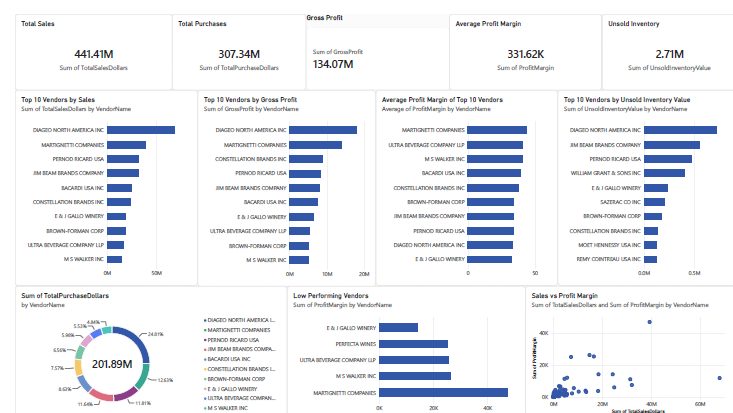

Layout of this report page (visuals, bound fields, positions):
{"tool":"powerbi","page":{"name":"Vendor Performance Dashboard","canvas":[1920,1080],"ordinal":0},"visuals":[{"type":"textbox","box":[10,0,280,280],"z":0},{"type":"card","title":"Total Sales","fields":{"Values":["Sum(vendor_performance_final.TotalSalesDollars)"]},"box":[0,0,418.7,202.7],"z":1},{"type":"card","title":"Total Purchases","fields":{"Values":["Sum(vendor_performance_final.TotalPurchaseDollars)"]},"box":[418.7,0,356.8,202.7],"z":2},{"type":"cardVisual","title":"Gross Profit","fields":{"Data":["Sum(vendor_performance_final.GrossProfit)"]},"box":[775.5,0,380.2,202.7],"z":3},{"type":"card","title":"Average Profit Margin","fields":{"Values":["Sum(vendor_performance_final.ProfitMargin)"]},"box":[1155.7,0,405.3,202.7],"z":4},{"type":"card","title":"Unsold Inventory","fields":{"Values":["Sum(vendor_performance_final.UnsoldInventoryValue)"]},"box":[1561,0,360.1,202.7],"z":5},{"type":"clusteredBarChart","title":" Top 10 Vendors by Sales","fields":{"Category":["vendor_performance_final.VendorName"],"Y":["Sum(vendor_performance_final.TotalSalesDollars)"]},"box":[0,202.7,485.7,520.9],"z":6},{"type":"clusteredBarChart","title":"Top 10 Vendors by Gross Profit","fields":{"Category":["vendor_performance_final.VendorName"],"Y":["Sum(vendor_performance_final.GrossProfit)"]},"box":[485.7,202.7,474,522.6],"z":7},{"type":"clusteredBarChart","title":"Average Profit Margin of Top 10 Vendors","fields":{"Category":["vendor_performance_final.VendorName"],"Y":["Avg(vendor_performance_final.ProfitMargin)"]},"box":[959.7,202.7,484.1,520.9],"z":8},{"type":"clusteredBarChart","title":"Top 10 Vendors by Unsold Inventory Value","fields":{"Category":["vendor_performance_final.VendorName"],"Y":["Sum(vendor_performance_final.UnsoldInventoryValue)"]},"box":[1443.8,202.7,477.4,520.9],"z":9},{"type":"donutChart","fields":{"Category":["vendor_performance_final.VendorName"],"Y":["Sum(vendor_performance_final.TotalPurchaseDollars)"]},"box":[0,723.6,723.6,356.8],"z":10},{"type":"barChart","title":"Low Performing Vendors","fields":{"Category":["vendor_performance_final.VendorName"],"Y":["Sum(vendor_performance_final.ProfitMargin)"]},"box":[723.6,723.6,634.8,356.8],"z":12},{"type":"scatterChart","title":"Sales vs Profit Margin","fields":{"Category":["vendor_performance_final.VendorName"],"X":["Sum(vendor_performance_final.TotalSalesDollars)"],"Y":["Sum(vendor_performance_final.ProfitMargin)"]},"box":[1358.4,723.6,561.1,356.8],"z":13}]}

Visuals, with their boxes in screenshot pixels (x1, y1, x2, y2), scaled from the page's 1920x1080 canvas onto the 733x413 screenshot:
textbox: (4,0,111,107)
"Total Sales" card: (0,0,160,78)
"Total Purchases" card: (160,0,296,78)
"Gross Profit" cardVisual: (296,0,441,78)
"Average Profit Margin" card: (441,0,596,78)
"Unsold Inventory" card: (596,0,732,78)
" Top 10 Vendors by Sales" clusteredBarChart: (0,78,185,277)
"Top 10 Vendors by Gross Profit" clusteredBarChart: (185,78,366,277)
"Average Profit Margin of Top 10 Vendors" clusteredBarChart: (366,78,551,277)
"Top 10 Vendors by Unsold Inventory Value" clusteredBarChart: (551,78,732,277)
donutChart - vendor_performance_final.VendorName x Sum(vendor_performance_final.TotalPurchaseDollars): (0,277,276,412)
"Low Performing Vendors" barChart: (276,277,519,412)
"Sales vs Profit Margin" scatterChart: (519,277,732,412)
